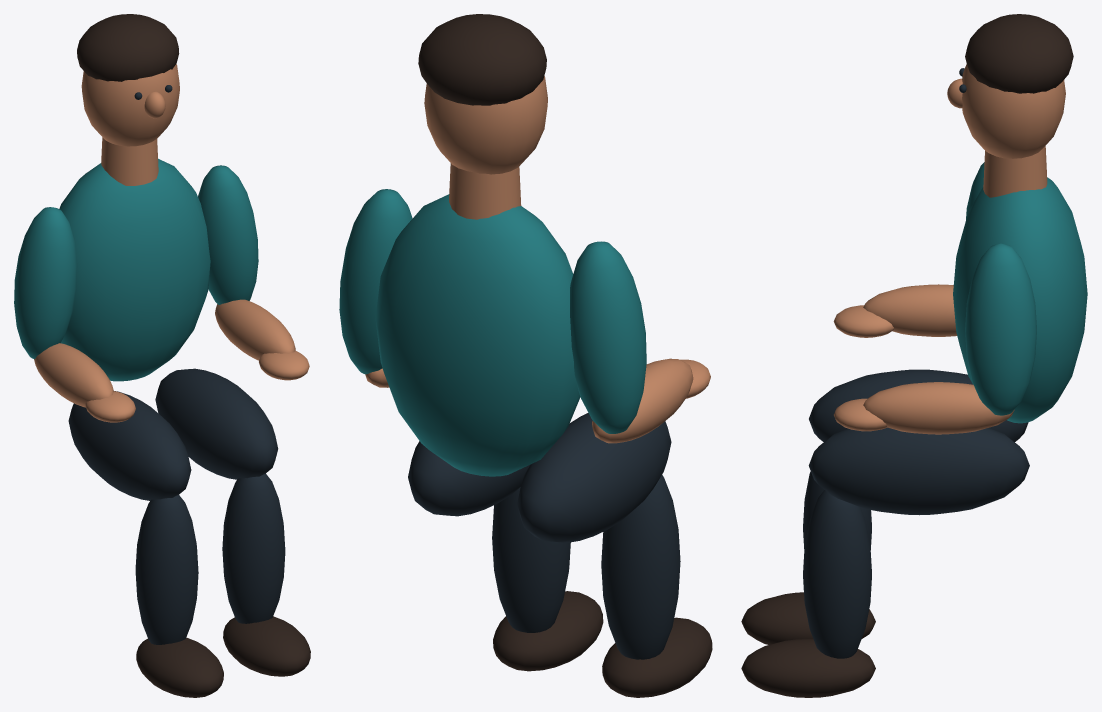
File: seated-person-lod0.glb
The picture shows the model from 3 angles, left to right: view 1: azimuth 30°, elevation 25°; view 2: azimuth 150°, elevation 25°; view 3: azimuth 270°, elevation 25°; orthographic projection. The views are drawn at different scales.
Visible parts, largest first — view 1: torso, thigh (×2), shin (×2), upper-arm (×2), shoe (×2), forearm (×2), hair, head, hand (×2), neck; view 2: torso, upper-arm (×2), shin (×2), thigh (×2), shoe (×2), hair, head, forearm, neck, hand; view 3: thigh (×2), torso, shin (×2), upper-arm, forearm (×2), shoe (×2), hair, head, hand (×2), neck.
Part boxes in pixels (x1=…): torso: x1=59, y1=158, x2=210, y2=381; thigh (×2): x1=68, y1=368, x2=278, y2=500; shin (×2): x1=135, y1=473, x2=285, y2=644; upper-arm (×2): x1=14, y1=165, x2=258, y2=359; shoe (×2): x1=136, y1=616, x2=310, y2=697; forearm (×2): x1=34, y1=299, x2=295, y2=407; hair: x1=77, y1=14, x2=179, y2=81; head: x1=81, y1=64, x2=179, y2=146; hand (×2): x1=85, y1=350, x2=309, y2=422; neck: x1=101, y1=137, x2=158, y2=185; torso: x1=375, y1=194, x2=580, y2=476; upper-arm (×2): x1=339, y1=189, x2=646, y2=433; shin (×2): x1=492, y1=475, x2=680, y2=659; thigh (×2): x1=408, y1=413, x2=671, y2=542; shoe (×2): x1=493, y1=591, x2=712, y2=697; hair: x1=418, y1=14, x2=546, y2=105; head: x1=424, y1=76, x2=547, y2=174; forearm: x1=592, y1=358, x2=693, y2=443; neck: x1=449, y1=163, x2=521, y2=219; hand: x1=680, y1=359, x2=710, y2=398; thigh (×2): x1=808, y1=369, x2=1029, y2=515; torso: x1=953, y1=177, x2=1087, y2=423; shin (×2): x1=803, y1=471, x2=871, y2=658; upper-arm: x1=965, y1=243, x2=1036, y2=415; forearm (×2): x1=863, y1=284, x2=1014, y2=434; shoe (×2): x1=741, y1=592, x2=875, y2=697; hair: x1=965, y1=14, x2=1073, y2=93; head: x1=962, y1=64, x2=1065, y2=158; hand (×2): x1=833, y1=305, x2=893, y2=431; neck: x1=983, y1=146, x2=1047, y2=197.
Size of the model in its own units: 0.6242 by 1.49 by 0.72.
